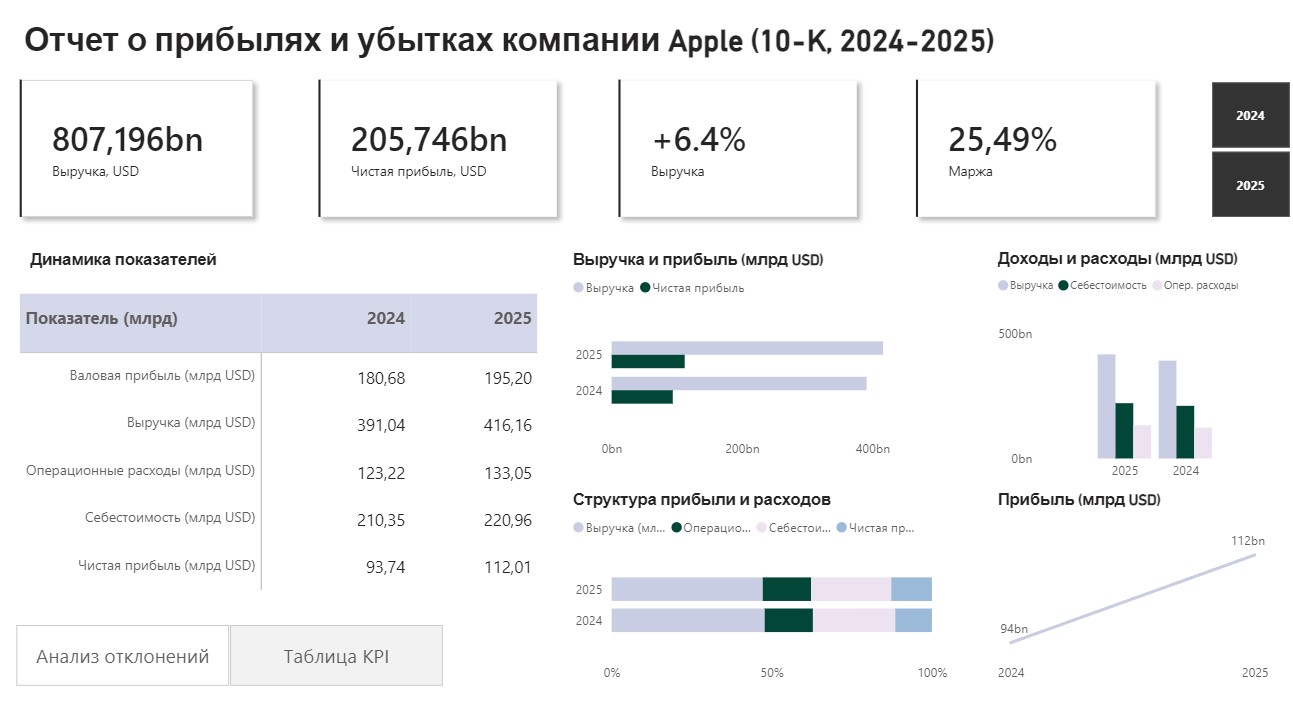

This screenshot's page, from the dashboard's own definition file:
{"tool":"powerbi","page":{"name":"Page 1","canvas":[1280,720],"ordinal":0},"visuals":[{"type":"cardVisual","fields":{"Data":["Лист1.Выручка Fixed"]},"box":[0,57.9,290.9,191.9],"z":0},{"type":"cardVisual","fields":{"Data":["Лист1.Чистая прибыль Fixed"]},"box":[289.4,57.9,289.4,191.9],"z":1000},{"type":"cardVisual","fields":{"Data":["Лист1.Выручка YoY %"]},"box":[580.3,57.9,289.4,191.9],"z":2000},{"type":"clusteredBarChart","title":"Выручка и прибыль (млрд USD)","fields":{"Category":["Лист1.Год"],"Y":["Лист1.Выручка Fixed","Лист1.Чистая прибыль Fixed"]},"box":[560.2,251.8,376.2,205.6],"z":3000},{"type":"hundredPercentStackedBarChart","title":"Структура прибыли и расходов","fields":{"Category":["Лист1.Год"],"Y":["Лист1.Итого (млрд)"],"Series":["Лист1.Показатель (млрд)"]},"box":[560.2,484.8,368.6,190.4],"z":4000},{"type":"slicer","fields":{"Values":["Лист1.Год"]},"box":[1159.1,82.2,120.3,144.7],"z":6000},{"type":"cardVisual","fields":{"Data":["Лист1.Маржа %"]},"box":[869.7,57.9,290.9,191.9],"z":7000},{"type":"textbox","box":[0,161.8,290,36.3],"z":8000},{"type":"textbox","box":[290.2,161.8,290.2,36.3],"z":9000},{"type":"textbox","box":[580.5,161.8,290.2,36.3],"z":10000},{"type":"textbox","box":[869.4,161.8,290.2,36.3],"z":11000},{"type":"clusteredColumnChart","title":"Доходы и расходы (млрд USD)","fields":{"Category":["Лист1.Год"],"Y":["Лист1.Выручка Fixed","Лист1.Себестоимость","Лист1.Операционные расходы"]},"box":[971.7,251.3,272.6,233],"z":12000},{"type":"pythonVisual","fields":{"Values":["Лист1.Год","Sum(Лист1.Значение)","Лист1.Показатель"]},"box":[0,289.7,539.4,305.5],"z":13000},{"type":"actionButton","box":[30.8,615.8,206.5,59],"z":16000},{"type":"actionButton","box":[237.8,615.8,206.5,59],"z":17000},{"type":"textbox","box":[33.7,247.9,223.2,33.7],"z":18000},{"type":"textbox","box":[27.4,25.9,987,48.7],"z":19000},{"type":"lineChart","title":"Прибыль (млрд USD)","fields":{"Category":["Лист1.Год"],"Y":["Лист1.Чистая прибыль"]},"box":[971.7,484.3,272.6,190.4],"z":20000}]}

Visuals, with their boxes in screenshot pixels (x1, y1, x2, y2), scaled from the page's 1280x720 canvas onto the 1293x711 screenshot:
cardVisual - Лист1.Выручка Fixed: [left=0, top=57, right=294, bottom=247]
cardVisual - Лист1.Чистая прибыль Fixed: [left=292, top=57, right=585, bottom=247]
cardVisual - Лист1.Выручка YoY %: [left=586, top=57, right=879, bottom=247]
"Выручка и прибыль (млрд USD)" clusteredBarChart: [left=566, top=249, right=946, bottom=452]
"Структура прибыли и расходов" hundredPercentStackedBarChart: [left=566, top=479, right=938, bottom=667]
slicer - Лист1.Год: [left=1171, top=81, right=1292, bottom=224]
cardVisual - Лист1.Маржа %: [left=879, top=57, right=1172, bottom=247]
textbox: [left=0, top=160, right=293, bottom=196]
textbox: [left=293, top=160, right=586, bottom=196]
textbox: [left=586, top=160, right=880, bottom=196]
textbox: [left=878, top=160, right=1171, bottom=196]
"Доходы и расходы (млрд USD)" clusteredColumnChart: [left=982, top=248, right=1257, bottom=478]
pythonVisual - Лист1.Год x Sum(Лист1.Значение): [left=0, top=286, right=545, bottom=588]
actionButton: [left=31, top=608, right=240, bottom=666]
actionButton: [left=240, top=608, right=449, bottom=666]
textbox: [left=34, top=245, right=260, bottom=278]
textbox: [left=28, top=26, right=1025, bottom=74]
"Прибыль (млрд USD)" lineChart: [left=982, top=478, right=1257, bottom=666]
